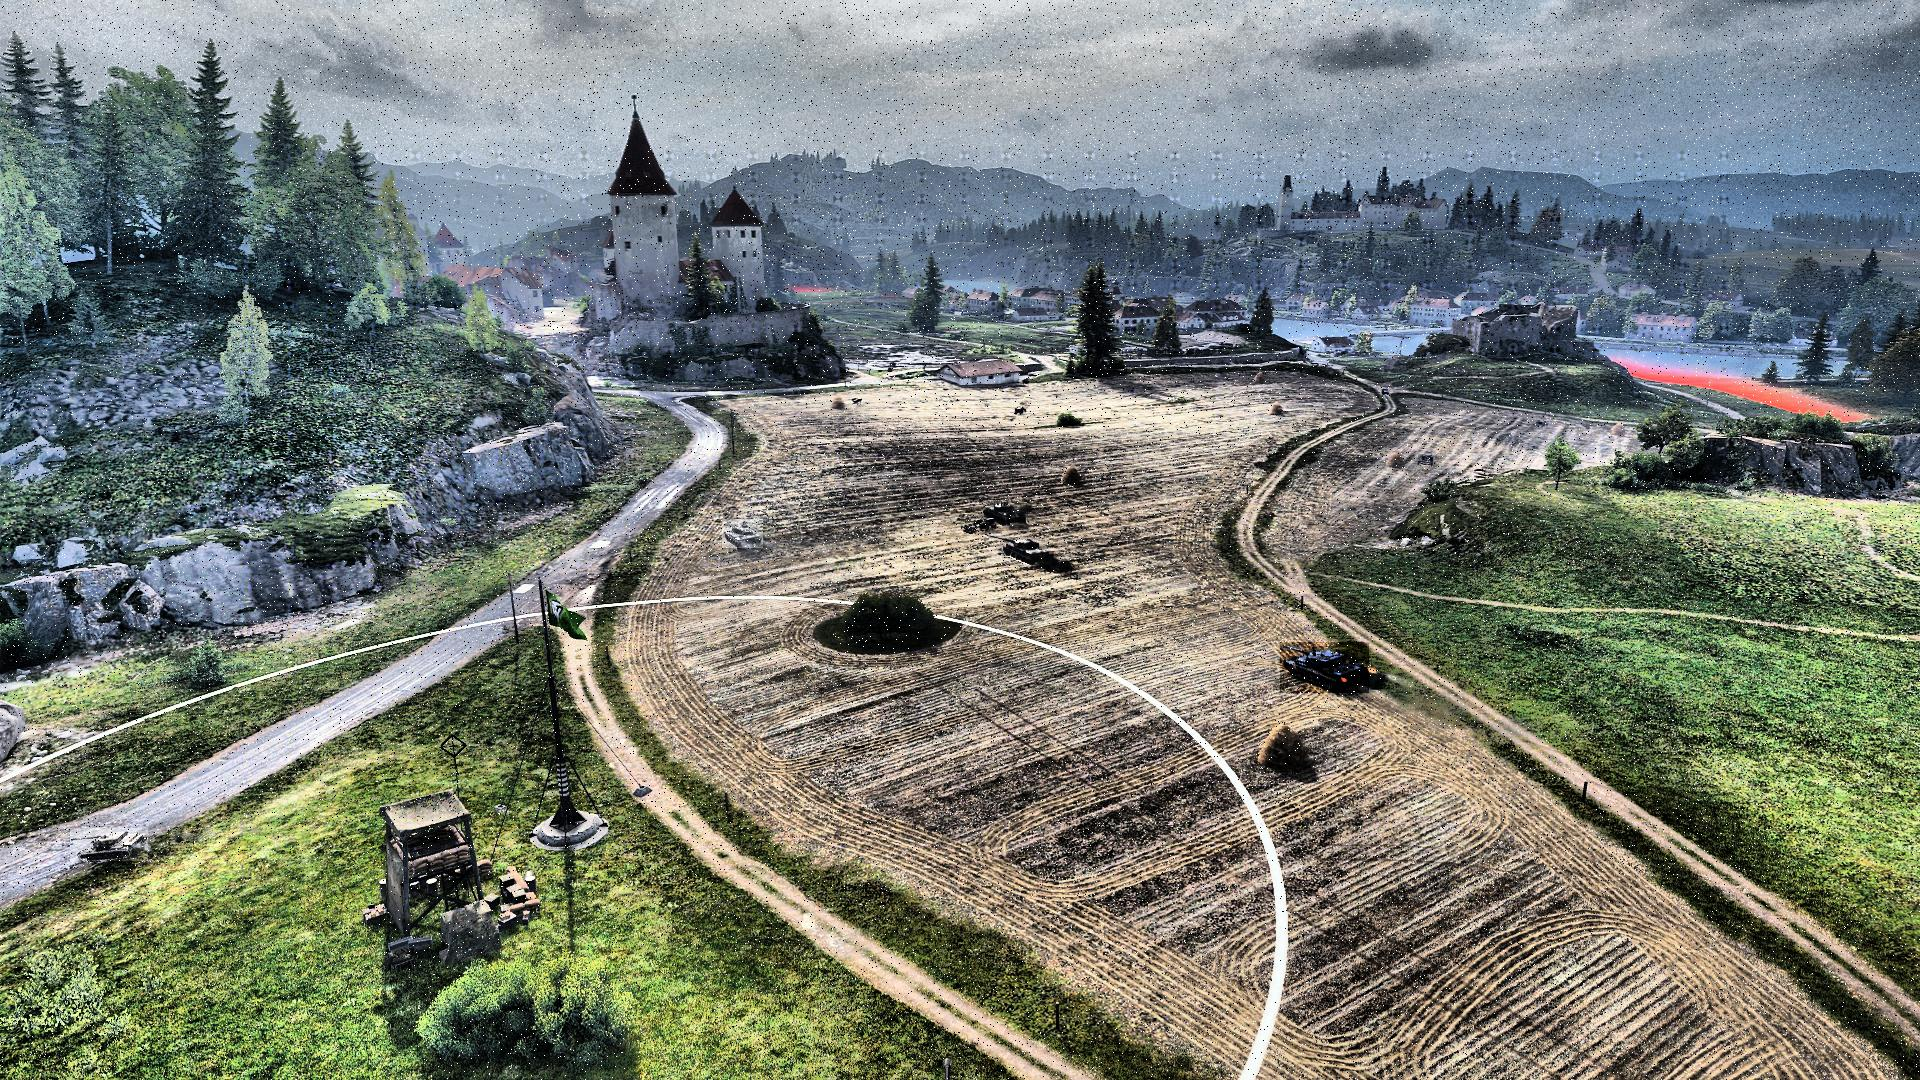military-vehicle: (1280, 642, 1369, 694), (71, 829, 149, 862), (988, 534, 1052, 564), (721, 520, 764, 549), (984, 501, 1027, 527)
